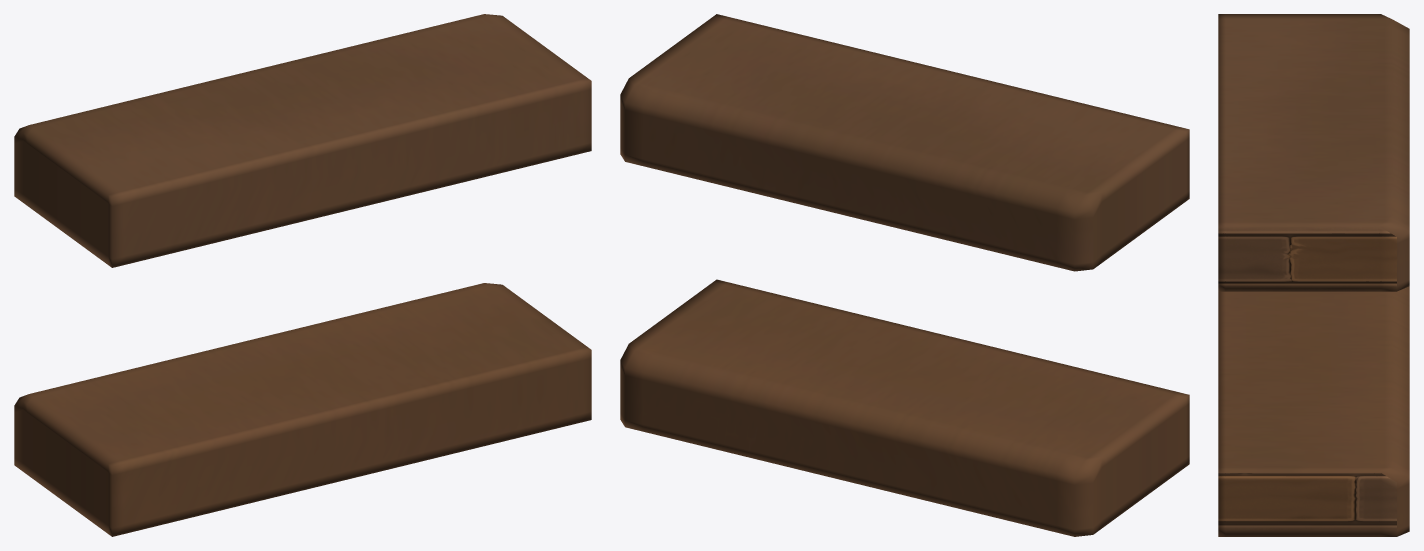
The model's file is Shelf_A.fbx.
3 renders of one model, left to right at view 1: azimuth 30°, elevation 25°; view 2: azimuth 150°, elevation 25°; view 3: azimuth 270°, elevation 25°, orthographic. The views are drawn at different scales.
Visible parts, largest first — view 1: Shelf_A; view 2: Shelf_A; view 3: Shelf_A.
Part boxes in pixels (x1,y1,x2,y2): Shelf_A: (14,14,591,536); Shelf_A: (620,14,1189,536); Shelf_A: (1218,14,1409,536).
Bounding box in the file's own units: 106 × 71.76 × 40.15.
Materials: 1 (1 with a texture image).
